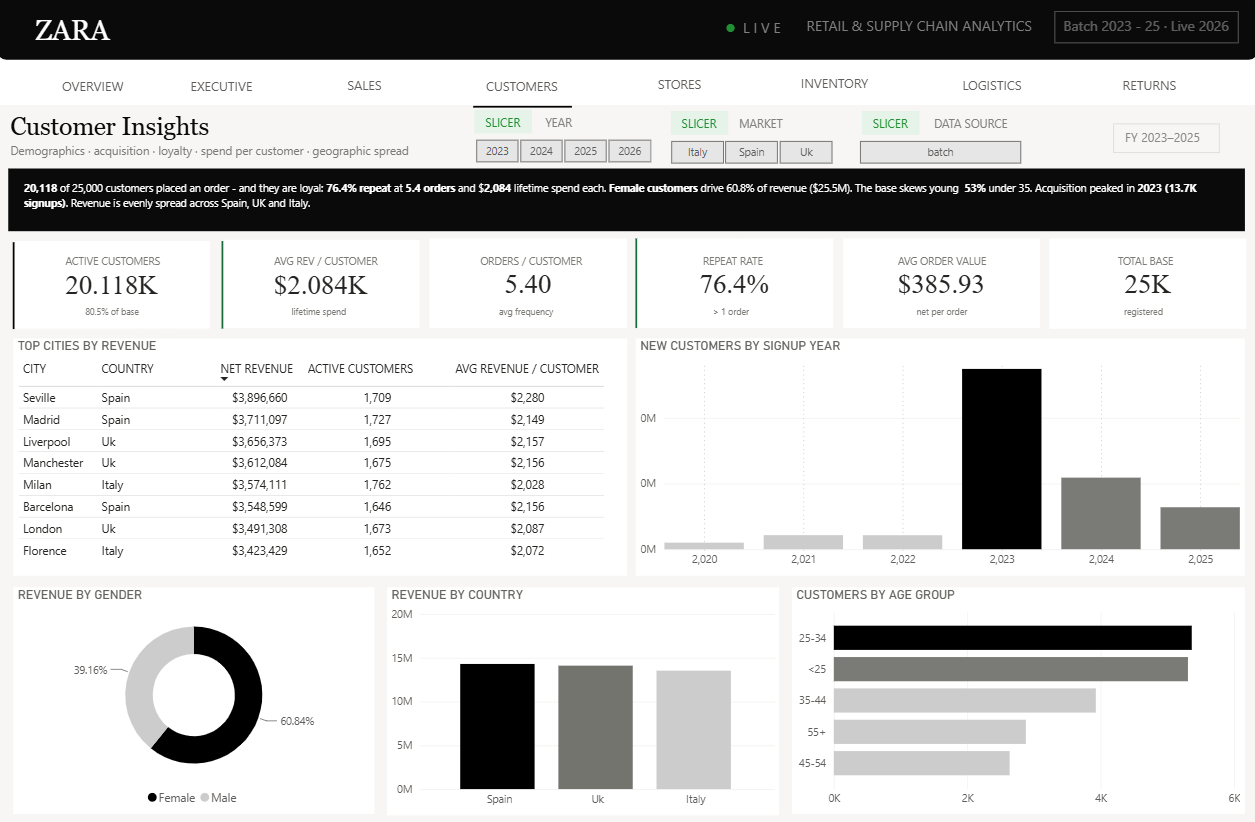

Layout of this report page (visuals, bound fields, positions):
{"tool":"powerbi","page":{"name":"CUSTOMERS","canvas":[1440,950],"ordinal":3},"visuals":[{"type":"shape","box":[1.7,1.7,1438.3,71.7],"z":0},{"type":"textbox","box":[39.2,16.2,112.2,48.6],"z":1000},{"type":"shape","box":[0,73.3,1440,51.7],"z":2000},{"type":"textbox","box":[10,129.1,292.7,50.9],"z":3000},{"type":"textbox","box":[10,162.7,527.3,29.1],"z":4000},{"type":"textbox","box":[1275,146.2,121.2,33.8],"z":5000},{"type":"shape","box":[13.3,196.7,1413.3,71.7],"z":6000},{"type":"textbox","box":[26.1,204.3,1382.6,58],"z":7000},{"type":"card","fields":{"Values":["_Measures.Avg Order Value"]},"box":[967.7,277.7,224.6,102.3],"z":8000},{"type":"card","fields":{"Values":["_Measures.Repeat Rate"]},"box":[730,277.7,225.4,102.3],"z":9000},{"type":"card","fields":{"Values":["_Measures.Active Customers"]},"box":[18.5,280,224.6,100],"z":10000},{"type":"card","fields":{"Values":["_Measures.Avg Revenue per Customer"]},"box":[256.9,279.2,225.4,100.8],"z":11000},{"type":"card","fields":{"Values":["_Measures.Orders per Customer"]},"box":[493.8,277.7,225.4,102.3],"z":12000},{"type":"shape","box":[12.3,280.8,12.3,99.2],"z":13000},{"type":"textbox","box":[72.5,288.3,121.7,29.2],"z":14000},{"type":"textbox","box":[95,346.2,73.8,27.5],"z":15000},{"type":"textbox","box":[310.8,288.3,130,29.2],"z":16000},{"type":"textbox","box":[546.7,288.3,129.2,30],"z":17000},{"type":"textbox","box":[800.8,288.5,93.1,30],"z":18000},{"type":"textbox","box":[813.1,346.2,56.2,27.7],"z":19000},{"type":"textbox","box":[1023.8,288.5,139.2,29.2],"z":20000},{"type":"textbox","box":[1045.4,346.2,86.9,27.7],"z":21000},{"type":"card","fields":{"Values":["_Measures.Total Customers"]},"box":[1202.3,276.9,224.6,103.1],"z":22000},{"type":"textbox","box":[1275.4,288.5,79.2,30],"z":23000},{"type":"textbox","box":[1283.3,345.8,59.2,28.3],"z":24000},{"type":"textbox","box":[569.2,345.8,74.2,28.3],"z":25000},{"type":"tableEx","title":"TOP CITIES BY REVENUE","fields":{"Values":["gold dim_customers.city","gold dim_customers.country","_Measures.Net Revenue","_Measures.Active Customers","_Measures.Avg Revenue per Customer"]},"box":[18.8,391.3,701.4,271],"z":26000},{"type":"columnChart","title":"NEW CUSTOMERS BY SIGNUP YEAR","fields":{"Category":["gold dim_customers.Signup Year"],"Y":["_Measures.New Customers"]},"box":[730.4,391.3,695.7,271],"z":27000},{"type":"donutChart","title":"REVENUE BY GENDER","fields":{"Y":["_Measures.Net Revenue"],"Category":["gold dim_customers.gender"]},"box":[18.8,675.4,413,259.4],"z":28000},{"type":"columnChart","title":"REVENUE BY COUNTRY","fields":{"Y":["_Measures.Net Revenue"],"Category":["gold dim_customers.country"]},"box":[446.4,675.4,447.8,260.9],"z":29000},{"type":"barChart","title":"CUSTOMERS BY AGE GROUP","fields":{"Category":["gold dim_customers.Age Group"],"Y":["_Measures.Active Customers"]},"box":[908.7,675.4,517.4,259.4],"z":30000},{"type":"textbox","box":[332,346,86,34],"z":31000},{"type":"shape","box":[251,280,12.4,100],"z":32000},{"type":"shape","box":[723.7,277.7,12.7,102.3],"z":33000},{"type":"shape","box":[543.6,103.6,112.7,44.5],"z":34000},{"type":"actionButton","box":[182.9,75.7,147.4,53.9],"z":35000},{"type":"actionButton","box":[330.4,74.3,179.7,54.1],"z":36000},{"type":"actionButton","box":[510.1,75.7,179.7,54.1],"z":37000},{"type":"actionButton","box":[689.6,73.2,180,54.7],"z":38000},{"type":"actionButton","box":[867.5,71.6,180,54.7],"z":39000},{"type":"actionButton","box":[1047.6,73.8,180,54.3],"z":40000},{"type":"actionButton","box":[1226.7,75,180,54.4],"z":41000},{"type":"actionButton","box":[35.6,75.6,147.4,53.7],"z":42000},{"type":"textbox","box":[1208.3,16.7,210,36.7],"z":43000},{"type":"textbox","box":[911.7,16.7,283.3,36.7],"z":44000},{"type":"textbox","box":[826.7,16.7,85,36.7],"z":45000},{"type":"slicer","fields":{"Values":["gold fact_sales.source_system"]},"box":[960,158.5,234.6,34.6],"z":45001},{"type":"textbox","box":[988.2,130.9,65.5,27.3],"z":45002},{"type":"textbox","box":[1065.4,131.2,107.5,27.2],"z":45003},{"type":"slicer","fields":{"Values":["gold dim_customers.country"]},"box":[743.6,158.2,234.5,34.5],"z":45004},{"type":"textbox","box":[770,130.9,65.5,27.3],"z":45005},{"type":"textbox","box":[842.2,131.1,70,31.1],"z":45006},{"type":"slicer","fields":{"Values":["gold dim_date.full_date.Variation.Date Hierarchy.Year"]},"box":[520.9,157.3,250,34.5],"z":45007},{"type":"textbox","box":[546.4,130,65.5,27.3],"z":45008},{"type":"textbox","box":[620.9,130,49.1,27.3],"z":45009}]}

Visuals, with their boxes in screenshot pixels (x1, y1, x2, y2), scaled from the page's 1440x950 canvas onto the 1255x822 screenshot:
shape: bbox(1, 1, 1254, 64)
textbox: bbox(34, 14, 132, 56)
shape: bbox(0, 63, 1254, 108)
textbox: bbox(9, 112, 264, 156)
textbox: bbox(9, 141, 468, 166)
textbox: bbox(1111, 127, 1217, 156)
shape: bbox(12, 170, 1243, 232)
textbox: bbox(23, 177, 1228, 227)
card - _Measures.Avg Order Value: bbox(843, 240, 1039, 329)
card - _Measures.Repeat Rate: bbox(636, 240, 833, 329)
card - _Measures.Active Customers: bbox(16, 242, 212, 329)
card - _Measures.Avg Revenue per Customer: bbox(224, 242, 420, 329)
card - _Measures.Orders per Customer: bbox(430, 240, 627, 329)
shape: bbox(11, 243, 21, 329)
textbox: bbox(63, 249, 169, 275)
textbox: bbox(83, 300, 147, 323)
textbox: bbox(271, 249, 384, 275)
textbox: bbox(476, 249, 589, 275)
textbox: bbox(698, 250, 779, 276)
textbox: bbox(709, 300, 758, 324)
textbox: bbox(892, 250, 1014, 275)
textbox: bbox(911, 300, 987, 324)
card - _Measures.Total Customers: bbox(1048, 240, 1244, 329)
textbox: bbox(1112, 250, 1181, 276)
textbox: bbox(1118, 299, 1170, 324)
textbox: bbox(496, 299, 561, 324)
"TOP CITIES BY REVENUE" tableEx: bbox(16, 339, 628, 573)
"NEW CUSTOMERS BY SIGNUP YEAR" columnChart: bbox(637, 339, 1243, 573)
"REVENUE BY GENDER" donutChart: bbox(16, 584, 376, 809)
"REVENUE BY COUNTRY" columnChart: bbox(389, 584, 779, 810)
"CUSTOMERS BY AGE GROUP" barChart: bbox(792, 584, 1243, 809)
textbox: bbox(289, 299, 364, 329)
shape: bbox(219, 242, 230, 329)
shape: bbox(631, 240, 642, 329)
shape: bbox(474, 90, 572, 128)
actionButton: bbox(159, 66, 288, 112)
actionButton: bbox(288, 64, 445, 111)
actionButton: bbox(445, 66, 601, 112)
actionButton: bbox(601, 63, 758, 111)
actionButton: bbox(756, 62, 913, 109)
actionButton: bbox(913, 64, 1070, 111)
actionButton: bbox(1069, 65, 1226, 112)
actionButton: bbox(31, 65, 159, 112)
textbox: bbox(1053, 14, 1236, 46)
textbox: bbox(795, 14, 1041, 46)
textbox: bbox(720, 14, 795, 46)
slicer - gold fact_sales.source_system: bbox(837, 137, 1041, 167)
textbox: bbox(861, 113, 918, 137)
textbox: bbox(929, 114, 1022, 137)
slicer - gold dim_customers.country: bbox(648, 137, 852, 167)
textbox: bbox(671, 113, 728, 137)
textbox: bbox(734, 113, 795, 140)
slicer - gold dim_date.full_date.Variation.Date Hierarchy.Year: bbox(454, 136, 672, 166)
textbox: bbox(476, 112, 533, 136)
textbox: bbox(541, 112, 584, 136)
